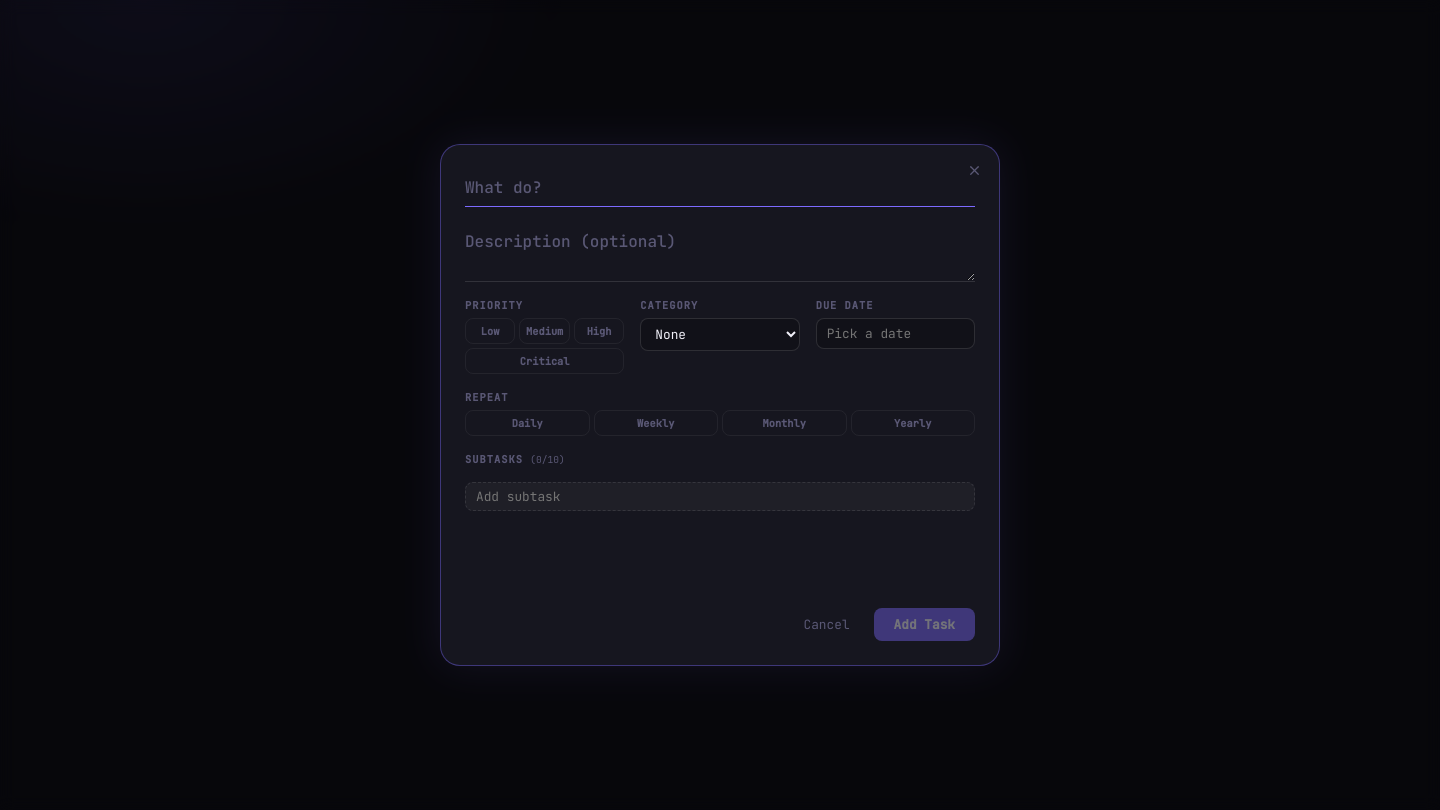
Test: AddTask › enables submit when title is filled
The width and height of the screenshot is (1440, 810).
Type "New task" into the field with placeholder "What do?".
click(720, 188); type("New task")  # box x1=465 y1=169 x2=975 y2=207
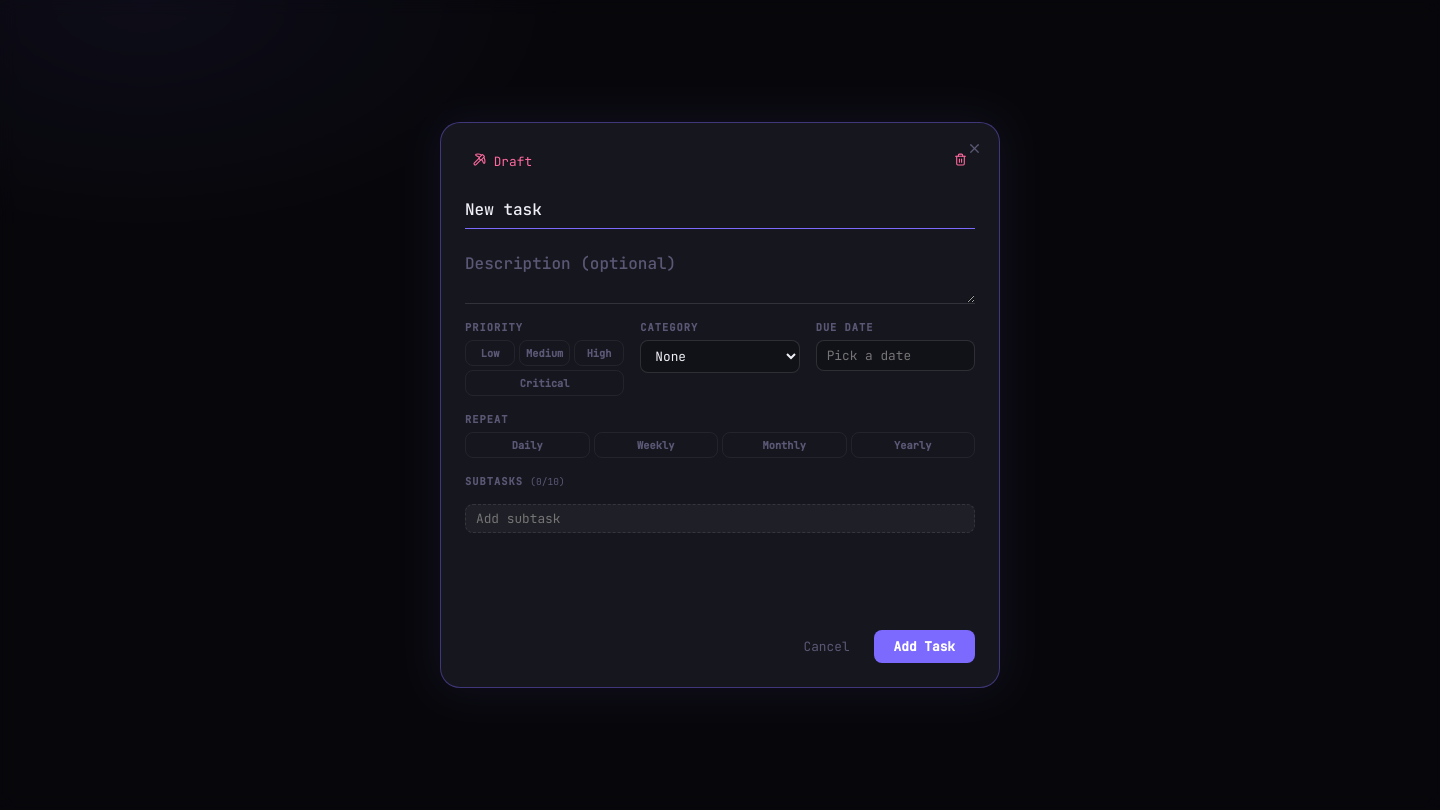
Expected: the button "Add Task" is enabled, x1=874 y1=630 x2=975 y2=663
